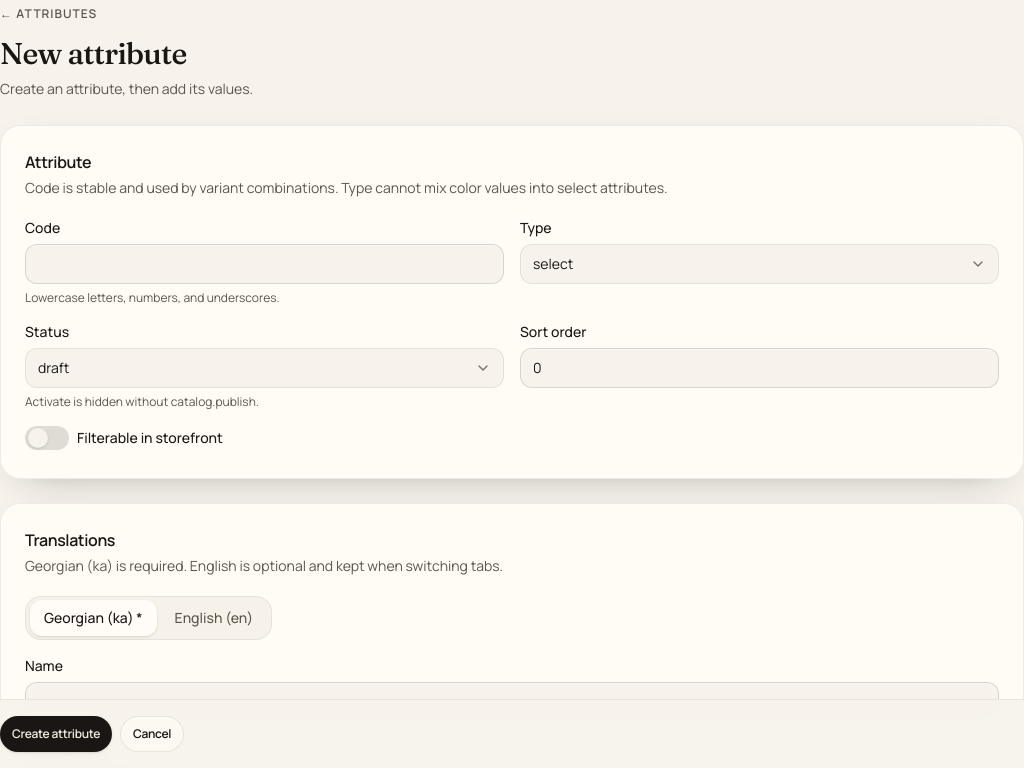
AttributeFormPage › requires a Georgian name before submit
The image size is (1024, 768).
In the field labelled "Code": (264, 264) 25,244 -> 504,284, type "color"
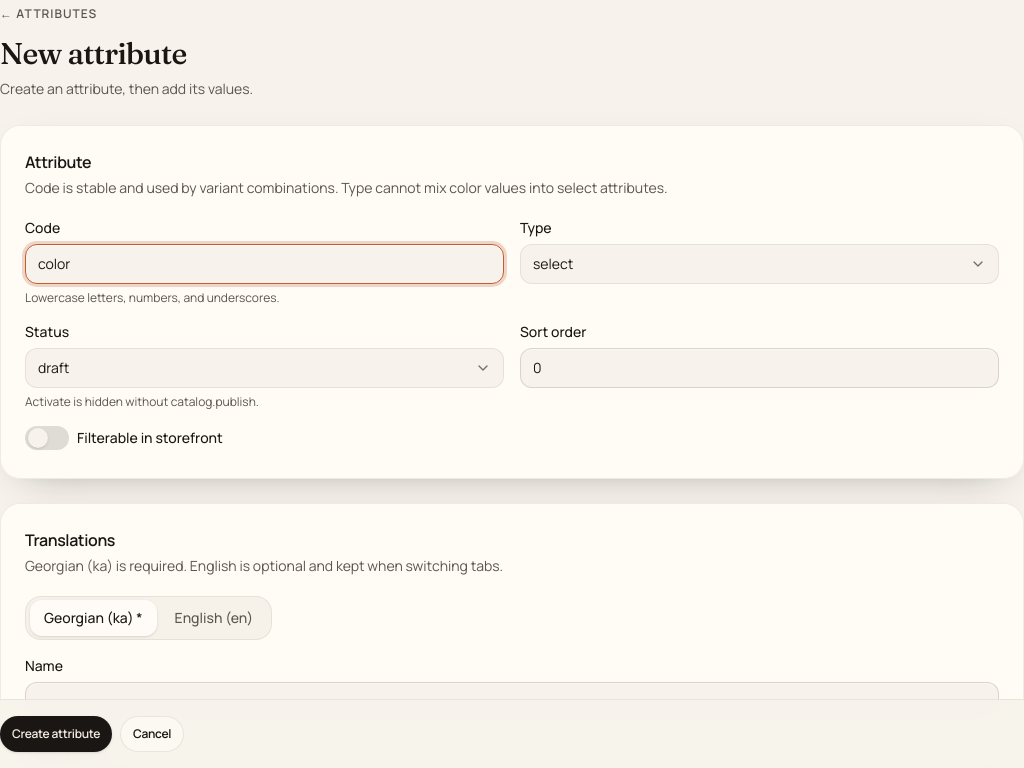
Click the button "Create attribute": (56, 734) 0,716 -> 112,752
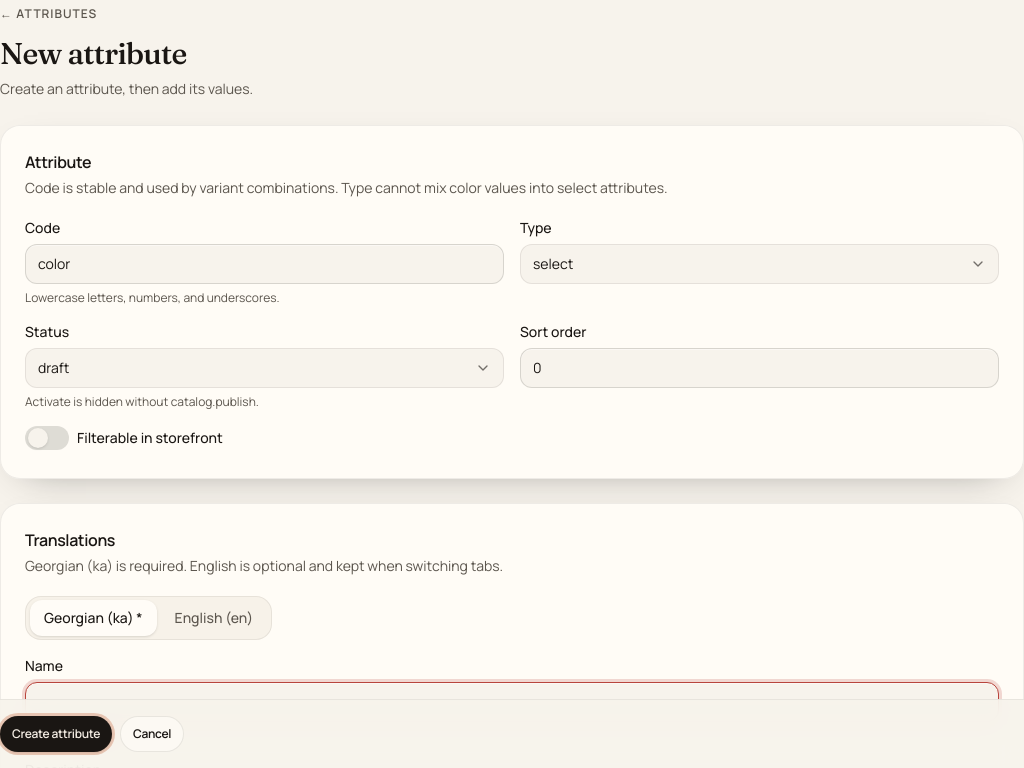
Expected: the text "Name is required." is shown, 25,727 -> 121,744
